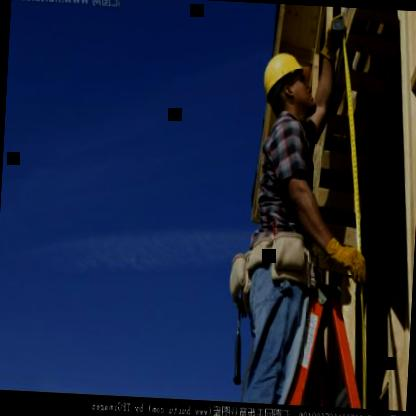helmet: (258, 48, 320, 126)
